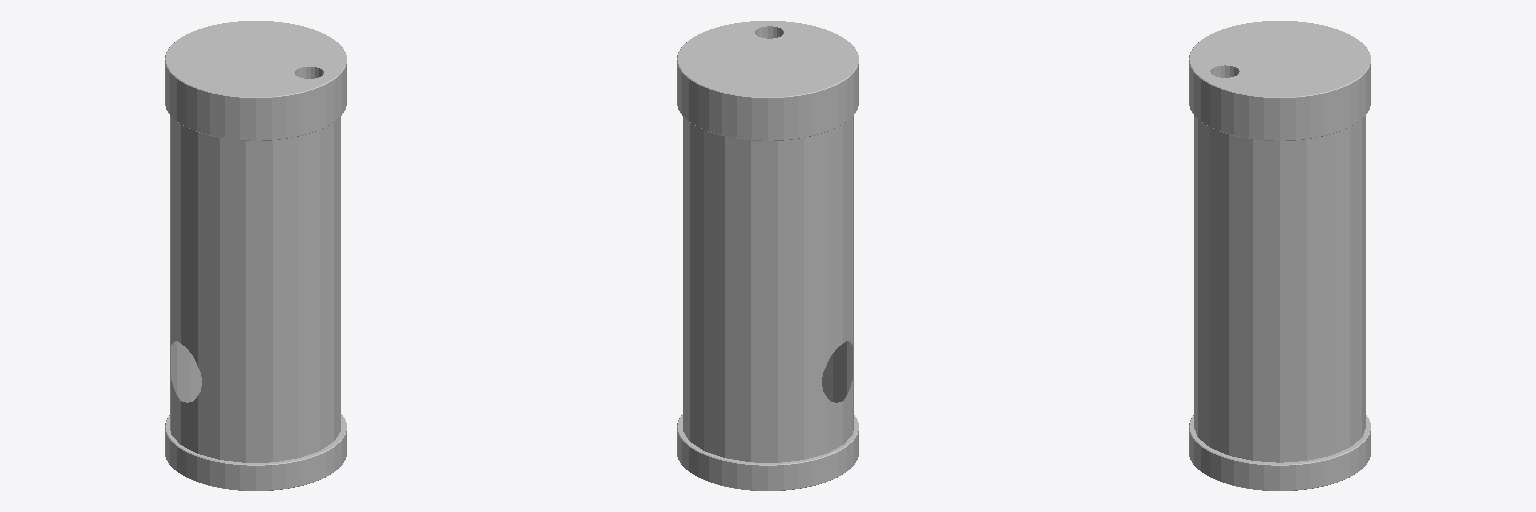
The model's file is CP3HumidityChamberMesh2.obj.
3 renders of one model, left to right at view 1: azimuth 30°, elevation 25°; view 2: azimuth 150°, elevation 25°; view 3: azimuth 270°, elevation 25°, orthographic.
Visible parts, largest first — view 1: CP3HumidityChamberMesh:polySurface2 CP3HumidityChamberMesh:polyS, CP3HumidityChamberMesh:pCylinder4 CP3HumidityChamberMesh:polySur, CP3HumidityChamberMesh:pCylinder2 CP3HumidityChamberMesh:polySur; view 2: CP3HumidityChamberMesh:polySurface2 CP3HumidityChamberMesh:polyS, CP3HumidityChamberMesh:pCylinder4 CP3HumidityChamberMesh:polySur, CP3HumidityChamberMesh:pCylinder2 CP3HumidityChamberMesh:polySur; view 3: CP3HumidityChamberMesh:polySurface2 CP3HumidityChamberMesh:polyS, CP3HumidityChamberMesh:pCylinder4 CP3HumidityChamberMesh:polySur, CP3HumidityChamberMesh:pCylinder2 CP3HumidityChamberMesh:polySur.
Boxes of the visible parts, <box> form: CP3HumidityChamberMesh:polySurface2 CP3HumidityChamberMesh:polyS: <box>170,116,340,462</box>; CP3HumidityChamberMesh:pCylinder4 CP3HumidityChamberMesh:polySur: <box>165,21,346,140</box>; CP3HumidityChamberMesh:pCylinder2 CP3HumidityChamberMesh:polySur: <box>165,414,346,490</box>; CP3HumidityChamberMesh:polySurface2 CP3HumidityChamberMesh:polyS: <box>683,116,853,462</box>; CP3HumidityChamberMesh:pCylinder4 CP3HumidityChamberMesh:polySur: <box>677,21,858,140</box>; CP3HumidityChamberMesh:pCylinder2 CP3HumidityChamberMesh:polySur: <box>677,414,858,490</box>; CP3HumidityChamberMesh:polySurface2 CP3HumidityChamberMesh:polyS: <box>1194,116,1365,462</box>; CP3HumidityChamberMesh:pCylinder4 CP3HumidityChamberMesh:polySur: <box>1189,21,1370,140</box>; CP3HumidityChamberMesh:pCylinder2 CP3HumidityChamberMesh:polySur: <box>1189,415,1370,490</box>.
Bounding box in the file's own units: 10.58 × 25.17 × 10.58.